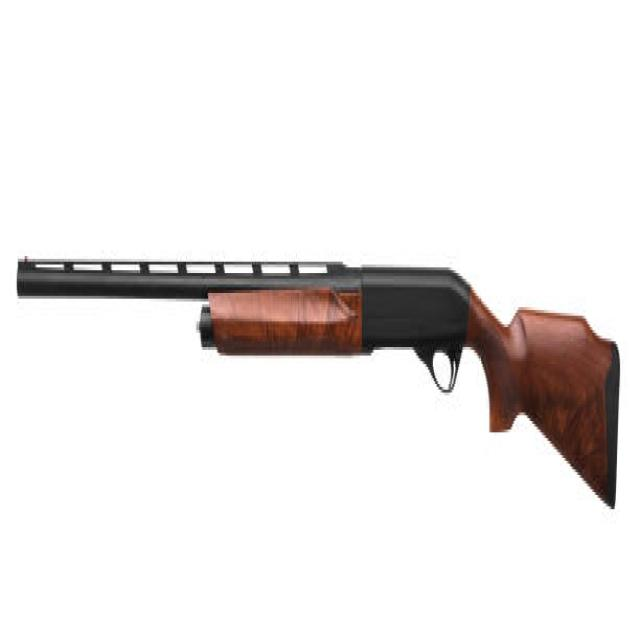rifle: (15, 217, 626, 527)
